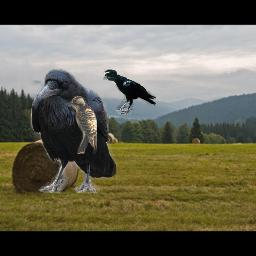Crow: (30, 68, 118, 193), (103, 69, 156, 115)
Woodpecker: (66, 96, 97, 154)
